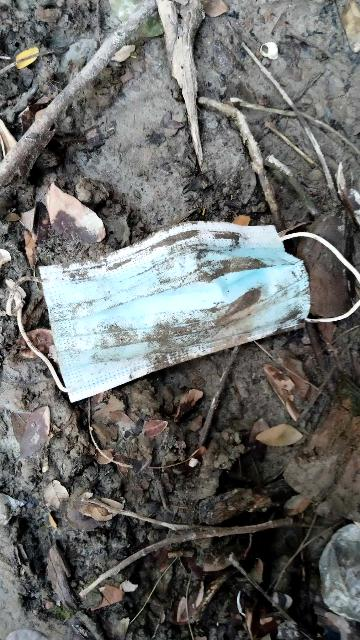mask: (51, 224, 360, 399)
